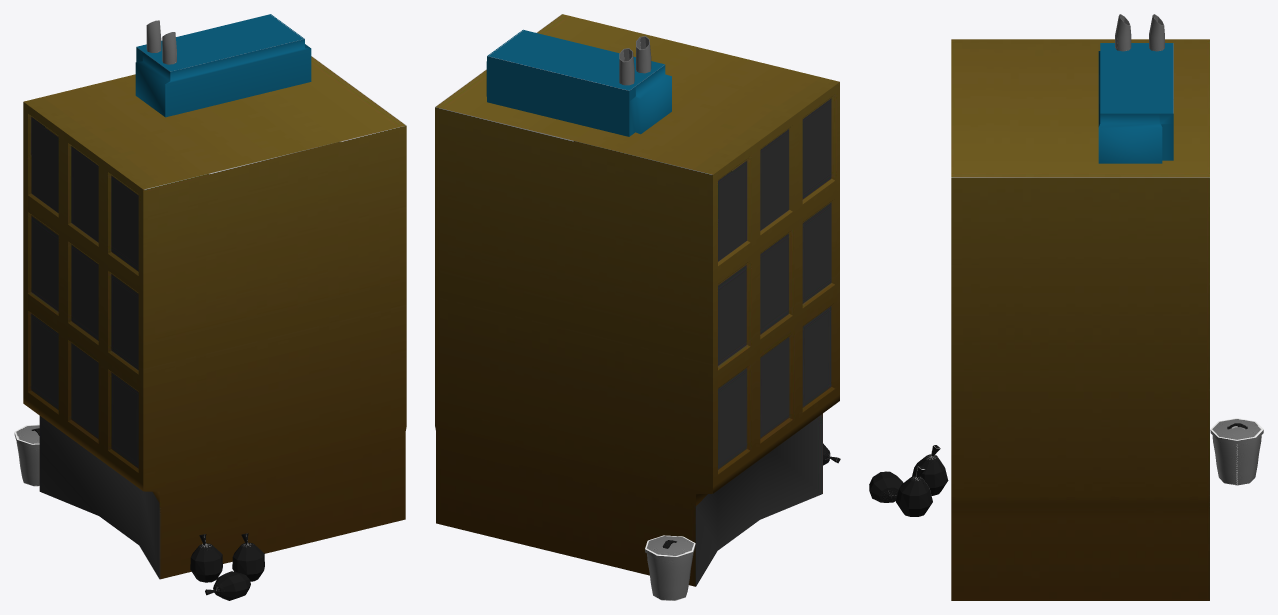
Rendered from Skyscraper.FBX.
3 renders of one model, left to right at view 1: azimuth 30°, elevation 25°; view 2: azimuth 150°, elevation 25°; view 3: azimuth 270°, elevation 25°, orthographic. The views are drawn at different scales.
Parts seen in each view (by area): view 1: Skyscraper; view 2: Skyscraper; view 3: Skyscraper.
Boxes of the visible parts, bbox=[...] form: Skyscraper: bbox=[14, 14, 406, 600]; Skyscraper: bbox=[435, 14, 840, 600]; Skyscraper: bbox=[869, 14, 1263, 600].
Size of the model in its own units: 574 by 989 by 693.
